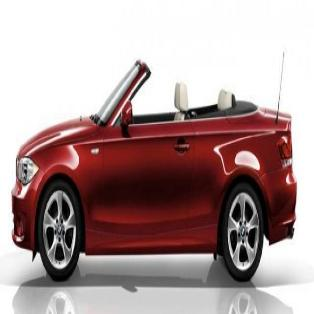Auto: (11, 53, 298, 285)
